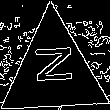N_W: (30, 50, 77, 92)
